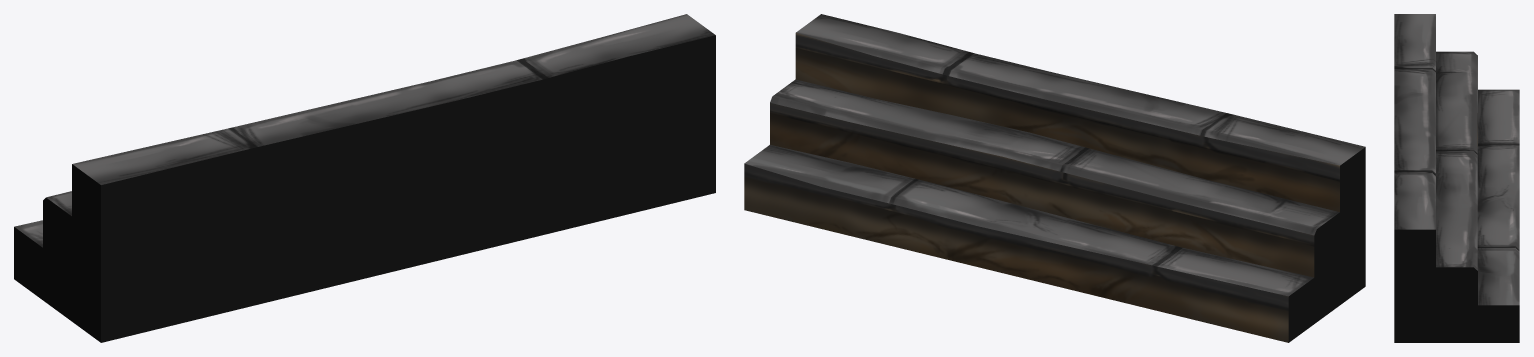
Rendered from Stairs.fbx.
3 renders of one model, left to right at view 1: azimuth 30°, elevation 25°; view 2: azimuth 150°, elevation 25°; view 3: azimuth 270°, elevation 25°, orthographic. The views are drawn at different scales.
Parts seen in each view (by area): view 1: Stairs1; view 2: Stairs1; view 3: Stairs1.
Boxes of the visible parts, <box> form: Stairs1: <box>14,14,715,342</box>; Stairs1: <box>744,14,1365,342</box>; Stairs1: <box>1394,14,1519,342</box>.
Size of the model in its own units: 247 by 60.67 by 60.67.
